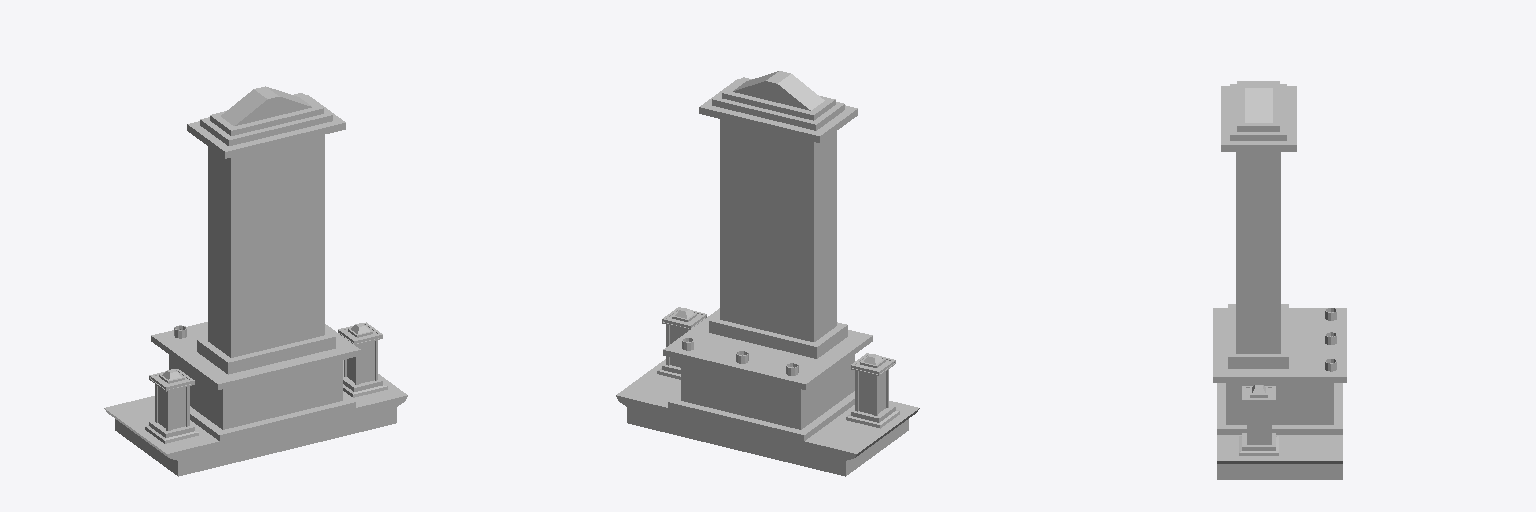
The model's file is grave.obj.
3 renders of one model, left to right at view 1: azimuth 30°, elevation 25°; view 2: azimuth 150°, elevation 25°; view 3: azimuth 270°, elevation 25°, orthographic.
Visible parts, largest first — view 1: tombstone7, lantern_1, lantern, glass_1, glass; view 2: tombstone7, lantern_1, lantern, glass_1; view 3: tombstone7, lantern, glass.
Boxes of the visible parts, x1,y1,x2,y2 form: tombstone7: [104, 86, 407, 476]; lantern_1: [145, 369, 198, 443]; lantern: [338, 322, 387, 397]; glass_1: [158, 386, 185, 429]; glass: [347, 341, 374, 383]; tombstone7: [616, 71, 919, 476]; lantern_1: [846, 353, 899, 428]; lantern: [657, 307, 706, 379]; glass_1: [859, 372, 885, 414]; tombstone7: [1213, 81, 1346, 479]; lantern: [1239, 385, 1278, 455]; glass: [1250, 404, 1268, 444].
Bounding box in the file's own units: 177 × 239 × 84.92.